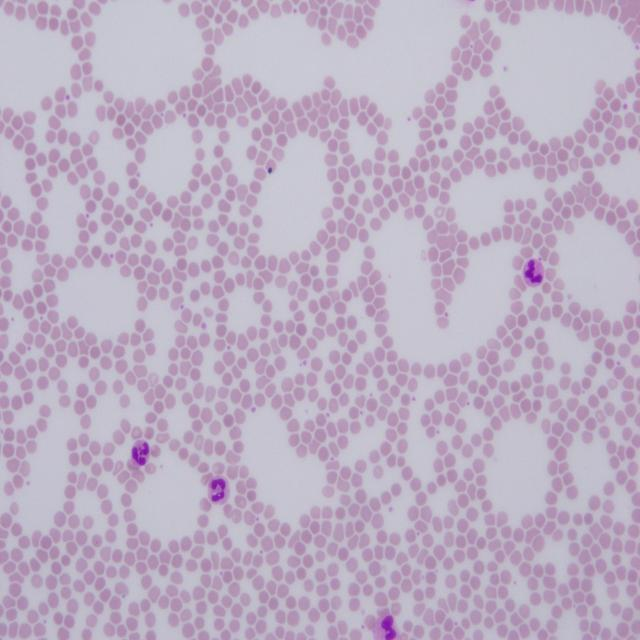cell: (522, 258, 545, 287), (372, 614, 398, 639), (208, 477, 228, 504), (131, 440, 150, 465)
